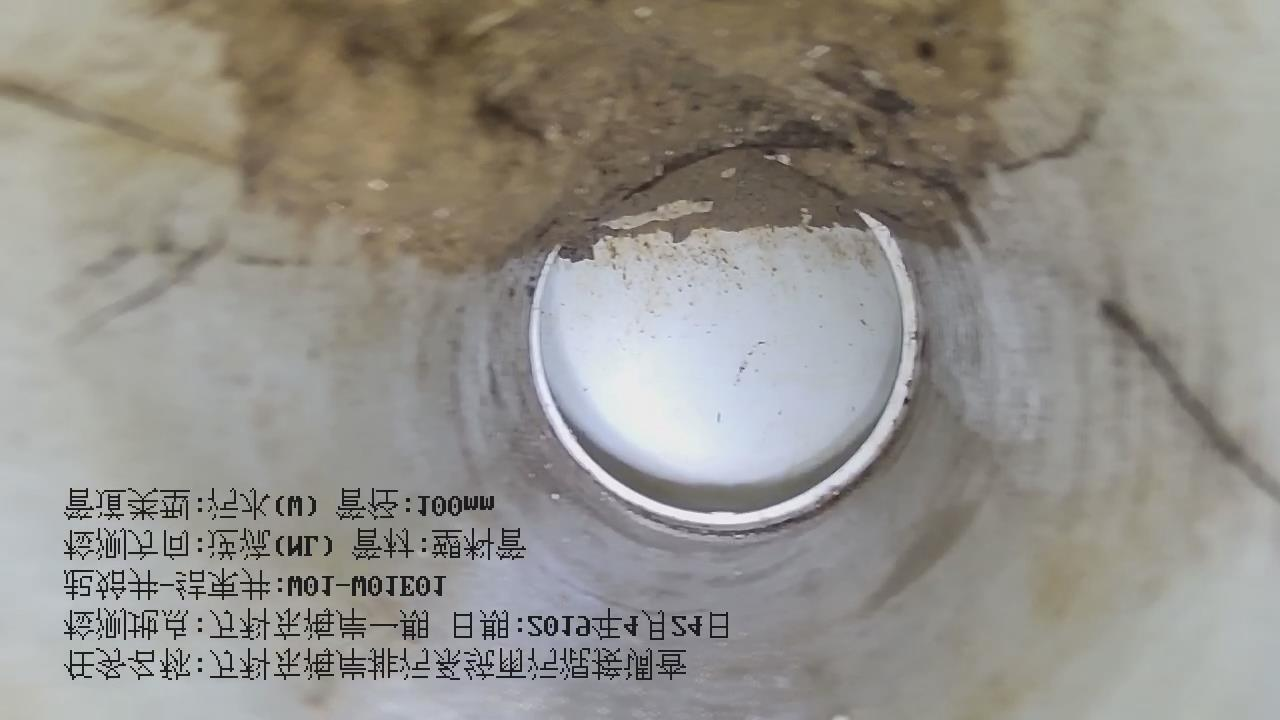CJ: (166, 1, 1009, 271)
CKTJ: (527, 213, 922, 530), (567, 162, 577, 173)
